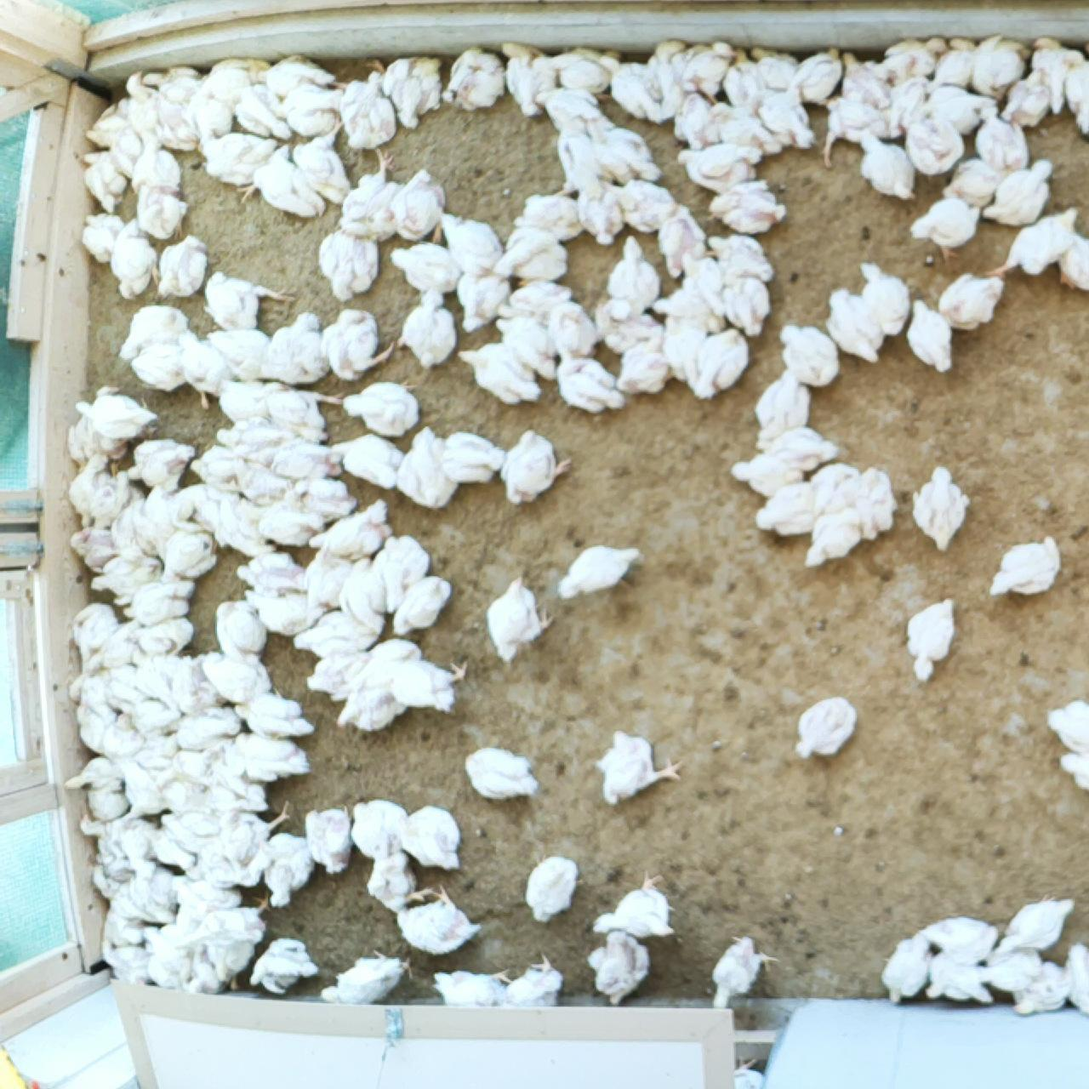chicken: (176, 897, 271, 976), (985, 203, 1081, 278), (595, 728, 686, 807), (235, 142, 326, 218), (336, 148, 406, 241), (398, 882, 481, 956), (482, 574, 552, 661), (192, 129, 277, 200), (375, 168, 452, 246), (455, 339, 542, 408), (291, 112, 354, 207), (590, 869, 678, 937), (545, 115, 612, 202), (262, 377, 346, 446), (705, 932, 780, 1009), (215, 798, 293, 872), (749, 361, 813, 451), (909, 462, 973, 552), (683, 322, 751, 406), (304, 497, 396, 559), (321, 306, 396, 382), (202, 271, 293, 333), (383, 653, 474, 714), (502, 428, 573, 505), (392, 287, 458, 369), (979, 159, 1055, 230), (429, 209, 505, 279), (321, 948, 414, 1005), (551, 342, 625, 413), (584, 928, 652, 1005), (396, 426, 460, 507), (381, 52, 447, 130), (557, 541, 641, 602), (258, 311, 328, 384), (901, 594, 959, 682), (169, 869, 246, 935), (318, 226, 384, 303), (336, 70, 399, 150), (997, 891, 1076, 954), (818, 99, 889, 168), (703, 178, 790, 234), (395, 805, 464, 875), (367, 844, 433, 917), (988, 532, 1062, 597), (790, 694, 859, 763), (439, 44, 509, 112), (908, 197, 982, 261), (343, 378, 423, 437), (373, 533, 431, 614), (335, 668, 404, 736), (586, 116, 657, 182), (709, 98, 790, 155), (500, 41, 558, 120), (119, 302, 188, 368), (751, 83, 816, 153), (915, 81, 995, 137), (751, 476, 821, 540), (224, 732, 310, 784), (857, 261, 915, 338), (854, 130, 916, 201), (176, 328, 231, 408), (490, 225, 570, 280), (878, 928, 935, 1005), (493, 313, 559, 379), (776, 321, 841, 388), (669, 37, 734, 104), (291, 608, 378, 658), (614, 324, 672, 399), (211, 495, 281, 557), (462, 745, 539, 801), (88, 543, 166, 598), (235, 687, 314, 741), (241, 585, 323, 637), (607, 236, 659, 318), (937, 270, 1008, 330), (600, 53, 660, 124), (825, 290, 884, 362), (241, 435, 331, 482), (968, 34, 1031, 101), (263, 832, 317, 910), (801, 503, 862, 572), (249, 934, 319, 994), (121, 857, 181, 927), (112, 217, 162, 301), (590, 292, 660, 352), (677, 139, 762, 188), (522, 854, 579, 927), (648, 279, 721, 336), (543, 45, 620, 99), (177, 843, 261, 892), (301, 803, 356, 877), (388, 240, 462, 295), (877, 33, 951, 88), (645, 35, 692, 121), (73, 390, 157, 438), (329, 434, 402, 489), (339, 557, 391, 634), (924, 948, 994, 1005), (901, 112, 965, 174), (436, 430, 509, 484), (272, 84, 346, 137), (455, 264, 510, 335), (573, 171, 625, 246), (905, 299, 957, 374), (350, 798, 409, 864), (115, 758, 174, 824), (658, 204, 709, 280), (754, 425, 840, 470), (921, 914, 1001, 962), (203, 649, 270, 706), (130, 646, 187, 713), (254, 52, 336, 98), (513, 191, 588, 241), (619, 174, 681, 234), (804, 456, 863, 519), (85, 862, 143, 926), (213, 415, 299, 458), (788, 42, 844, 108), (720, 267, 772, 338), (153, 232, 208, 299), (301, 539, 352, 611), (126, 434, 194, 488), (161, 522, 221, 583), (703, 230, 776, 280), (235, 549, 309, 598), (122, 576, 194, 626), (493, 276, 573, 321), (919, 34, 977, 96), (727, 453, 805, 499), (939, 154, 1004, 209), (974, 108, 1029, 173), (251, 499, 325, 547), (879, 73, 932, 140), (391, 575, 450, 635), (1029, 34, 1072, 116), (89, 462, 139, 532), (835, 50, 892, 111), (234, 81, 290, 143), (164, 706, 241, 751), (853, 464, 897, 542), (199, 763, 269, 812), (506, 952, 566, 1009), (193, 56, 264, 104), (678, 249, 726, 320), (117, 691, 186, 740), (129, 138, 187, 196), (1012, 961, 1070, 1019), (664, 313, 707, 391), (172, 653, 225, 716), (124, 615, 195, 662), (997, 67, 1051, 128), (214, 595, 266, 658), (356, 635, 424, 683), (978, 940, 1042, 991), (433, 966, 507, 1010), (141, 922, 185, 996), (70, 599, 120, 664), (208, 328, 269, 381), (67, 450, 107, 530), (135, 482, 176, 560), (135, 184, 192, 240), (152, 742, 217, 791), (79, 149, 130, 211), (123, 70, 164, 147), (84, 618, 141, 673), (546, 304, 599, 363), (231, 453, 288, 507), (282, 478, 355, 520), (302, 650, 371, 694), (533, 84, 605, 126), (81, 95, 134, 152), (96, 663, 154, 715), (130, 341, 187, 393), (67, 416, 126, 466), (721, 45, 764, 112), (151, 95, 199, 155), (158, 811, 220, 857), (58, 756, 126, 797), (1060, 48, 1089, 144), (672, 94, 723, 148), (67, 671, 122, 721), (80, 813, 127, 871), (182, 90, 235, 141), (173, 483, 229, 531), (1041, 698, 1089, 754), (103, 491, 146, 552), (68, 525, 120, 575), (218, 378, 272, 426), (1057, 938, 1089, 1017), (147, 825, 198, 874), (80, 210, 123, 267), (101, 939, 151, 987), (751, 46, 800, 94), (190, 442, 241, 486), (140, 63, 199, 101), (101, 711, 143, 763), (1055, 229, 1089, 293), (114, 815, 154, 869), (136, 727, 182, 772), (73, 701, 111, 755), (185, 945, 222, 998), (107, 123, 142, 179), (159, 776, 209, 813), (82, 778, 129, 817), (100, 910, 144, 950), (726, 1047, 767, 1089), (1058, 746, 1089, 793)
